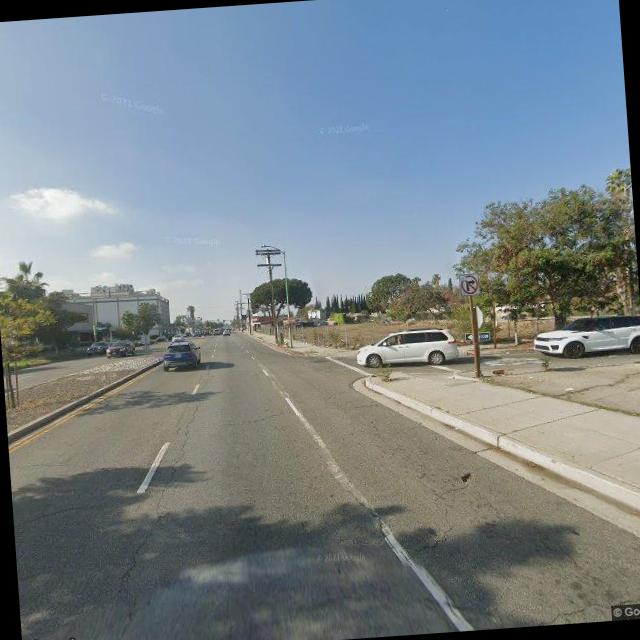crack: (100, 399, 214, 606), (546, 572, 640, 622), (12, 498, 95, 533), (386, 521, 458, 558), (212, 404, 290, 428)
pothole: (454, 466, 476, 484)
